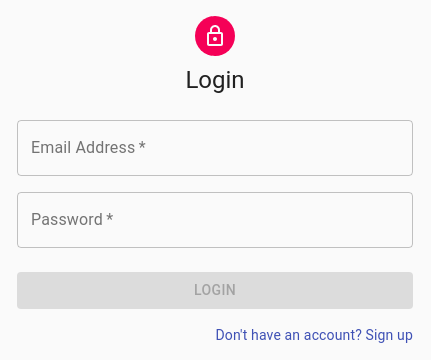
Scenario: Login page button disabled until fields inputted
The width and height of the screenshot is (431, 360).
Expected: the button is disabled, [17, 272, 413, 308]
In the field with id "email": [215, 148] box [17, 120, 413, 176], type "1"
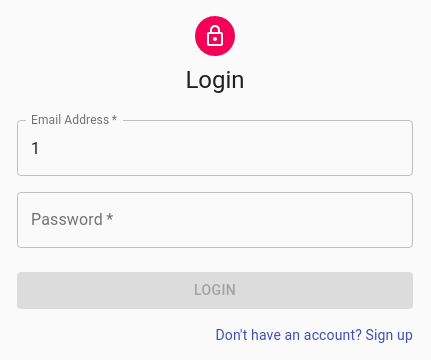
In the password field labelled "Password *": [215, 220] box [17, 192, 413, 248], type "1"
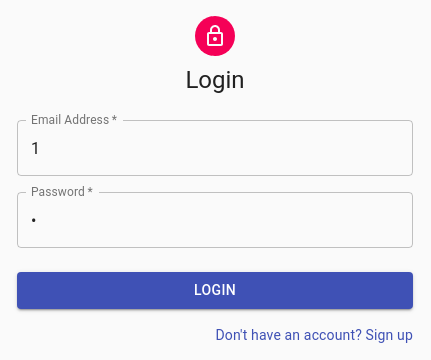
Expected: the button is enabled, [17, 272, 413, 308]
